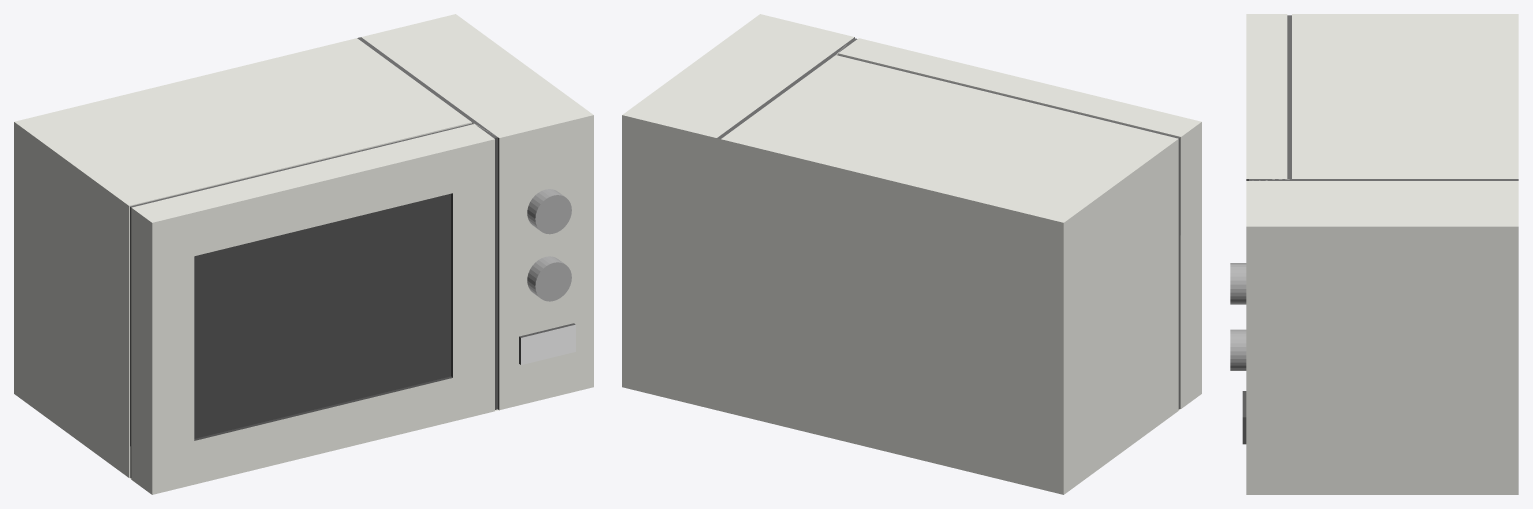
The model's file is microwave_01.glb.
3 renders of one model, left to right at view 1: azimuth 30°, elevation 25°; view 2: azimuth 150°, elevation 25°; view 3: azimuth 270°, elevation 25°, orthographic.
Visible parts, largest first — view 1: Cube; view 2: Cube; view 3: Cube.
Boxes of the visible parts, x1,y1,x2,y2 form: Cube: (14, 14, 593, 494); Cube: (622, 14, 1201, 494); Cube: (1230, 14, 1518, 494).
Bounding box in the file's own units: 0.4776 × 0.2811 × 0.2739.
Materials: 1 (1 with a texture image).
